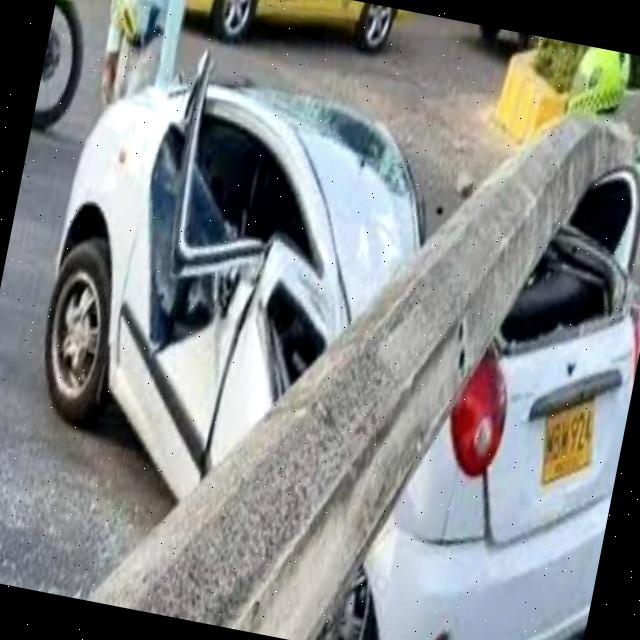Broken Pole: (87, 33, 640, 640)
